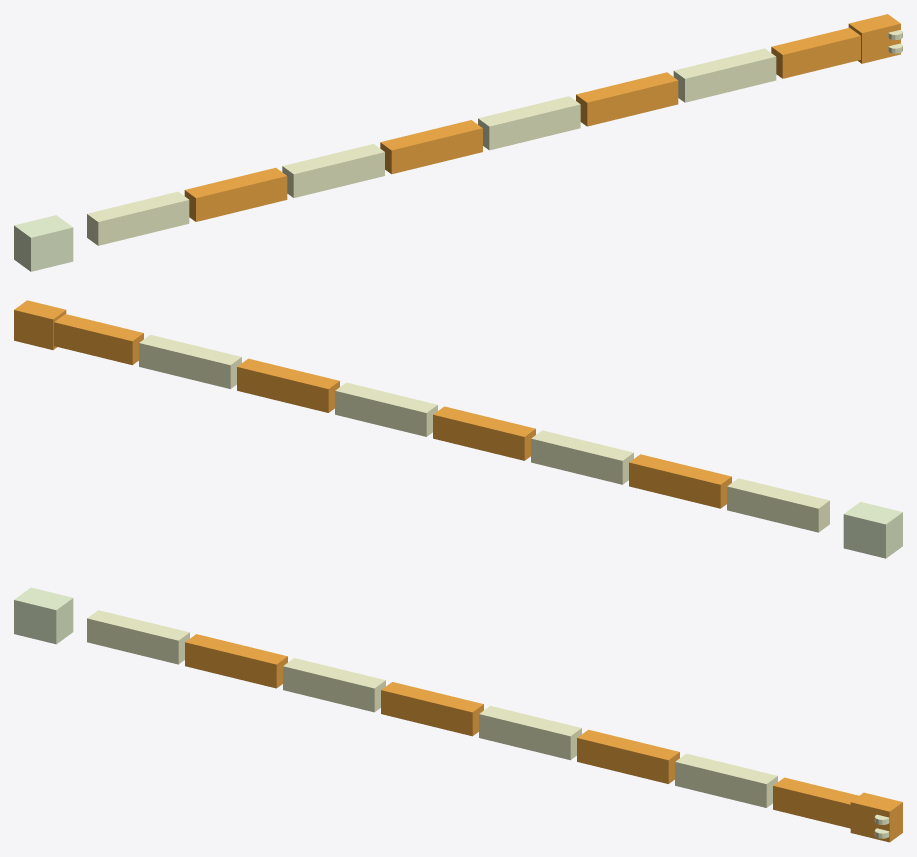
File: furniture_rail_gate_arm.glb
3 renders of one model, top to bottom at view 1: azimuth 30°, elevation 25°; view 2: azimuth 150°, elevation 25°; view 3: azimuth 330°, elevation 25°, orthographic.
Visible parts, largest first — view 1: arm_segment_0, arm_segment_1, arm_segment_6, arm_segment_5, arm_segment_3, arm_segment_4, arm_segment_2, arm_segment_7, pivot, tip_panel; view 2: arm_segment_0, arm_segment_2, arm_segment_1, arm_segment_3, arm_segment_4, arm_segment_5, arm_segment_6, arm_segment_7, pivot, tip_panel; view 3: arm_segment_1, arm_segment_6, arm_segment_4, arm_segment_2, arm_segment_3, arm_segment_5, arm_segment_0, pivot, arm_segment_7, tip_panel.
Part boxes in pixels (<box>): arm_segment_0: <box>87,191,189,245</box>; arm_segment_1: <box>184,167,287,221</box>; arm_segment_6: <box>673,48,776,102</box>; arm_segment_5: <box>576,72,678,126</box>; arm_segment_3: <box>380,120,482,174</box>; arm_segment_4: <box>478,96,580,150</box>; arm_segment_2: <box>282,144,384,197</box>; arm_segment_7: <box>771,27,860,78</box>; pivot: <box>14,215,73,271</box>; tip_panel: <box>848,14,900,63</box>; arm_segment_0: <box>727,478,829,532</box>; arm_segment_2: <box>531,430,633,484</box>; arm_segment_1: <box>629,454,731,508</box>; arm_segment_3: <box>433,406,535,460</box>; arm_segment_4: <box>335,382,437,436</box>; arm_segment_5: <box>237,358,339,412</box>; arm_segment_6: <box>139,334,241,388</box>; arm_segment_7: <box>54,314,143,365</box>; pivot: <box>843,501,902,558</box>; tip_panel: <box>14,300,66,349</box>; arm_segment_1: <box>185,634,287,688</box>; arm_segment_6: <box>675,753,777,807</box>; arm_segment_4: <box>479,706,581,760</box>; arm_segment_2: <box>283,658,385,712</box>; arm_segment_3: <box>381,682,483,736</box>; arm_segment_5: <box>577,729,679,783</box>; arm_segment_0: <box>87,610,189,664</box>; pivot: <box>14,587,73,644</box>; arm_segment_7: <box>773,777,858,828</box>; tip_panel: <box>850,792,902,842</box>.
Bounding box in the file's own units: 5.35 × 0.2 × 0.21.
